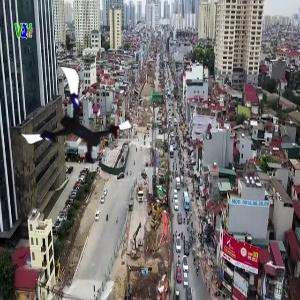drone: (22, 76, 122, 176)
